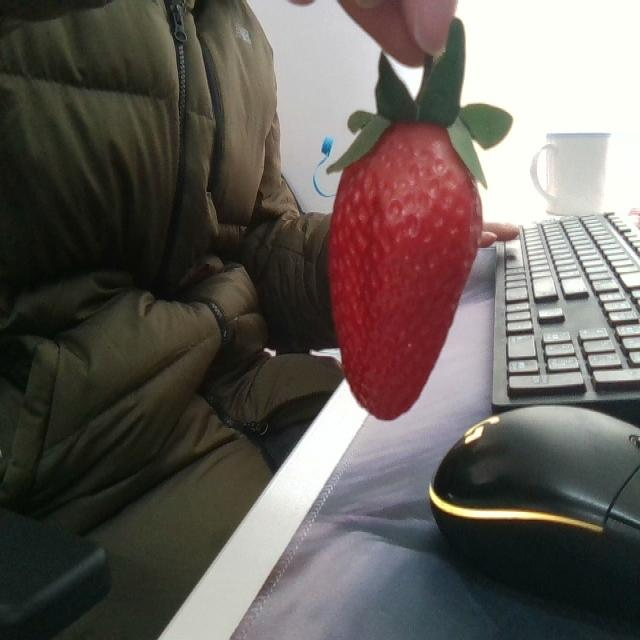mature: (328, 111, 483, 421)
